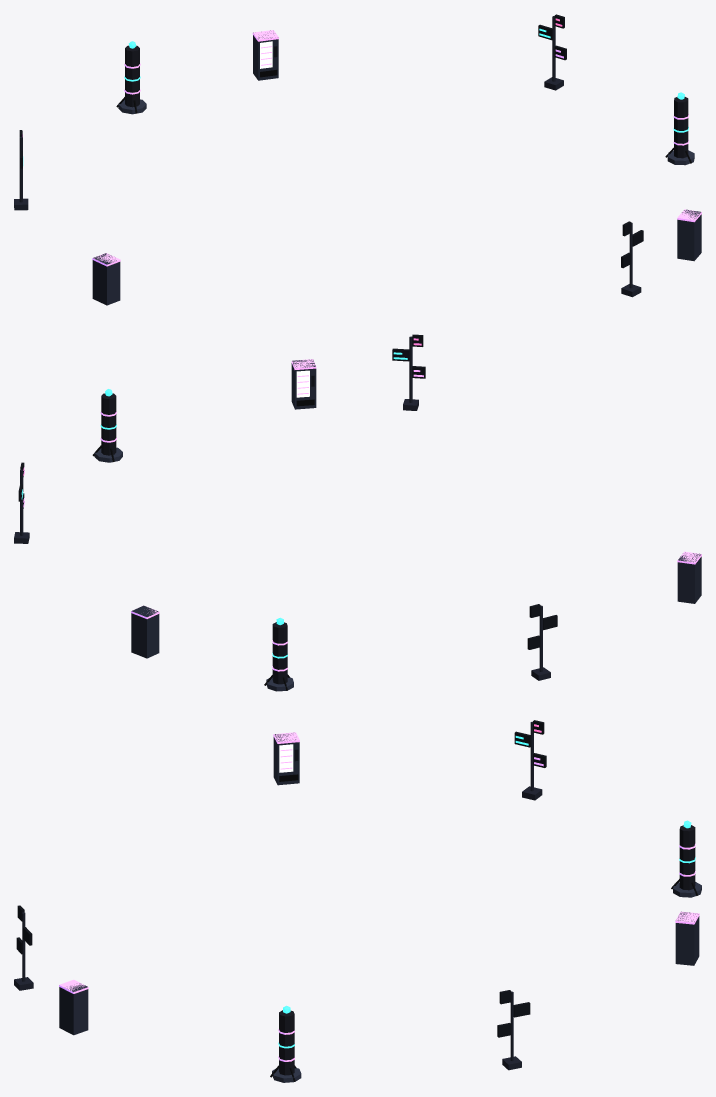
3 renders of one model, top to bottom at view 1: azimuth 30°, elevation 25°; view 2: azimuth 150°, elevation 25°; view 3: azimuth 270°, elevation 25°, orthographic. The views are drawn at different scales.
Parts seen in each view (by area): view 1: nexo_decor_cero.lod1; view 2: nexo_decor_cero.lod1; view 3: nexo_decor_cero.lod1.
Part boxes in pixels (<box>): nexo_decor_cero.lod1: <box>14,14,701,305</box>; nexo_decor_cero.lod1: <box>14,334,701,691</box>; nexo_decor_cero.lod1: <box>14,720,701,1082</box>.
Bounding box in the file's own units: 29.07 × 3.35 × 27.47.
